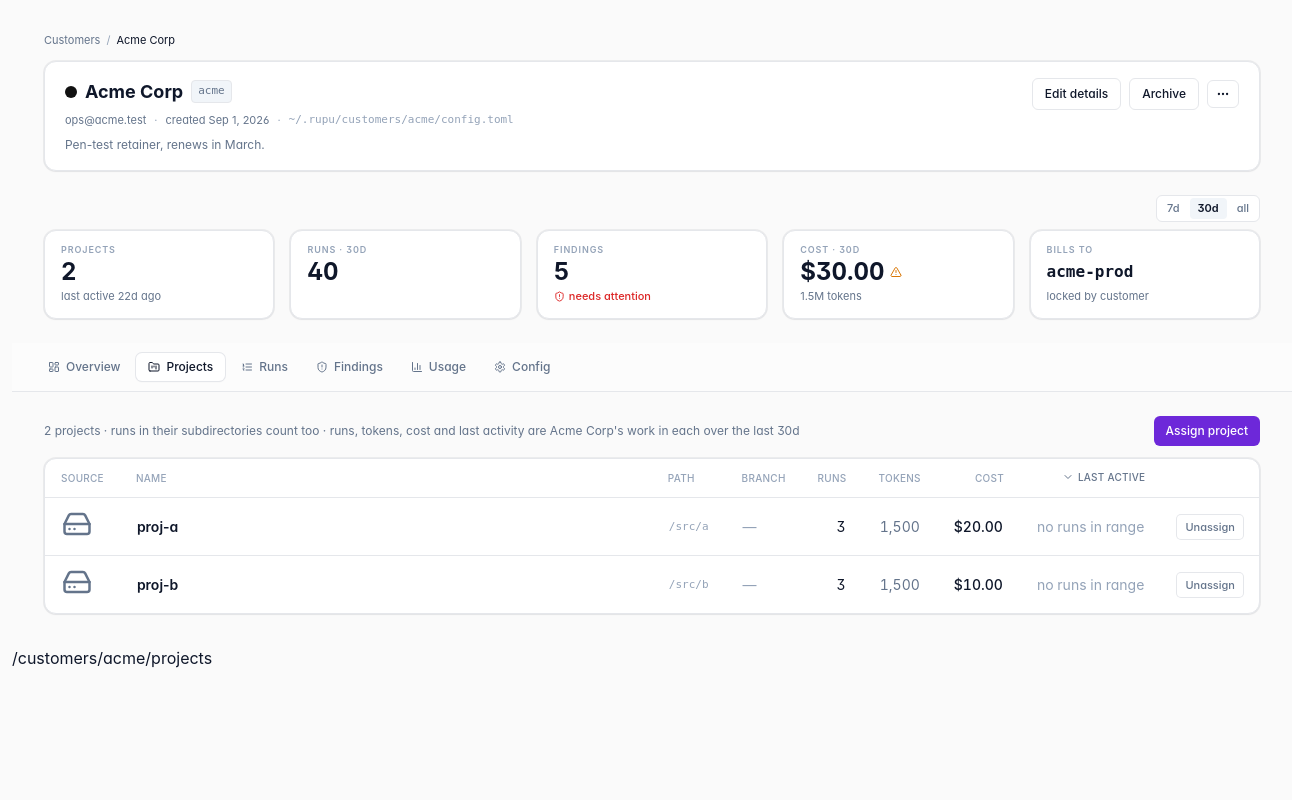
Scenario: CustomerDetail projects tab › a 404 on Unassign says "Already unassigned" and refetches
Expected: the text "proj-a" is shown, [137, 518, 178, 535]
Click the button with aria-label "Unassign proj-a" at coordinates (1210, 527), box [1177, 515, 1243, 539]
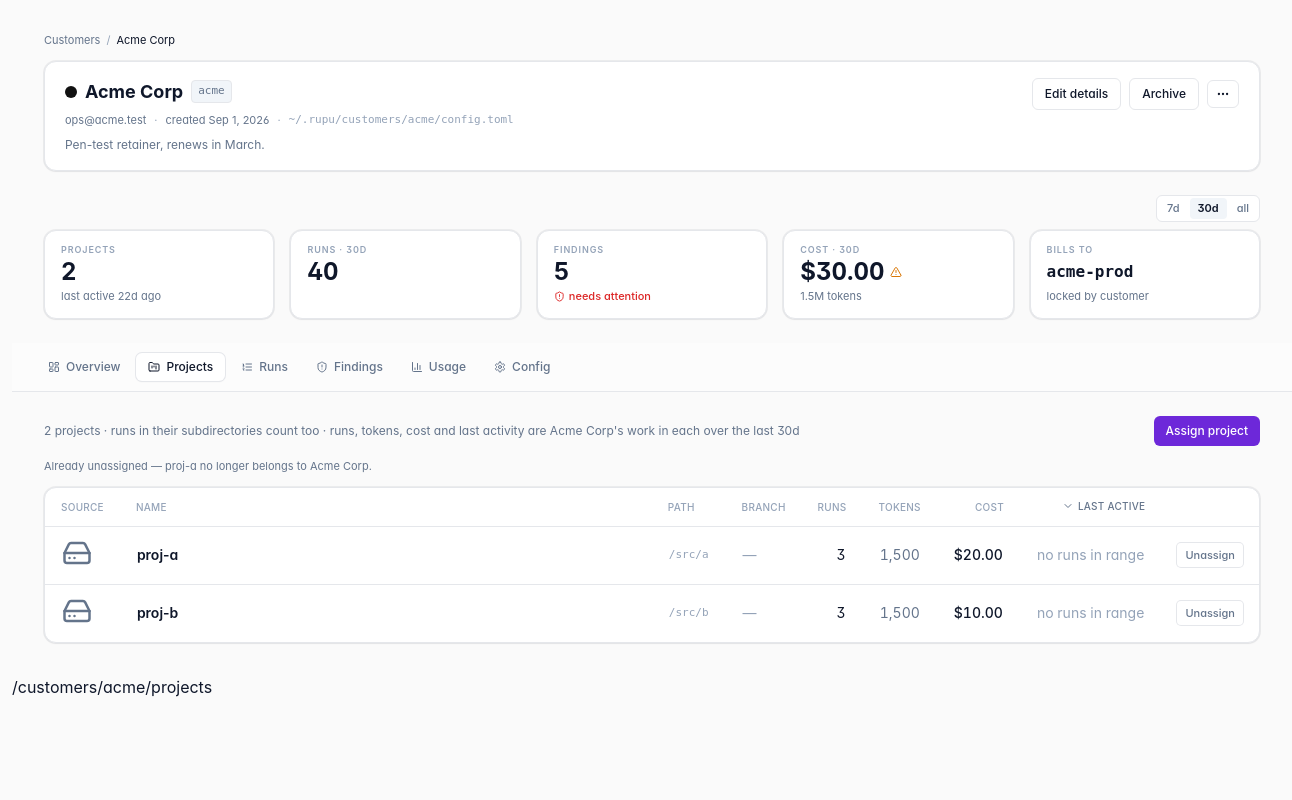
Now the text "Already unassigned — proj-a no longer belongs to Acme Corp." is shown, box [44, 459, 372, 473]
